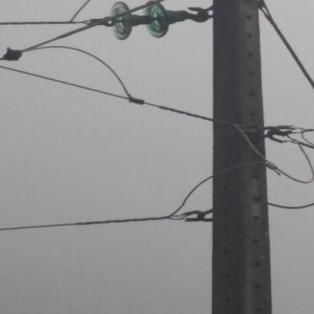Poste: (186, 0, 290, 314)
